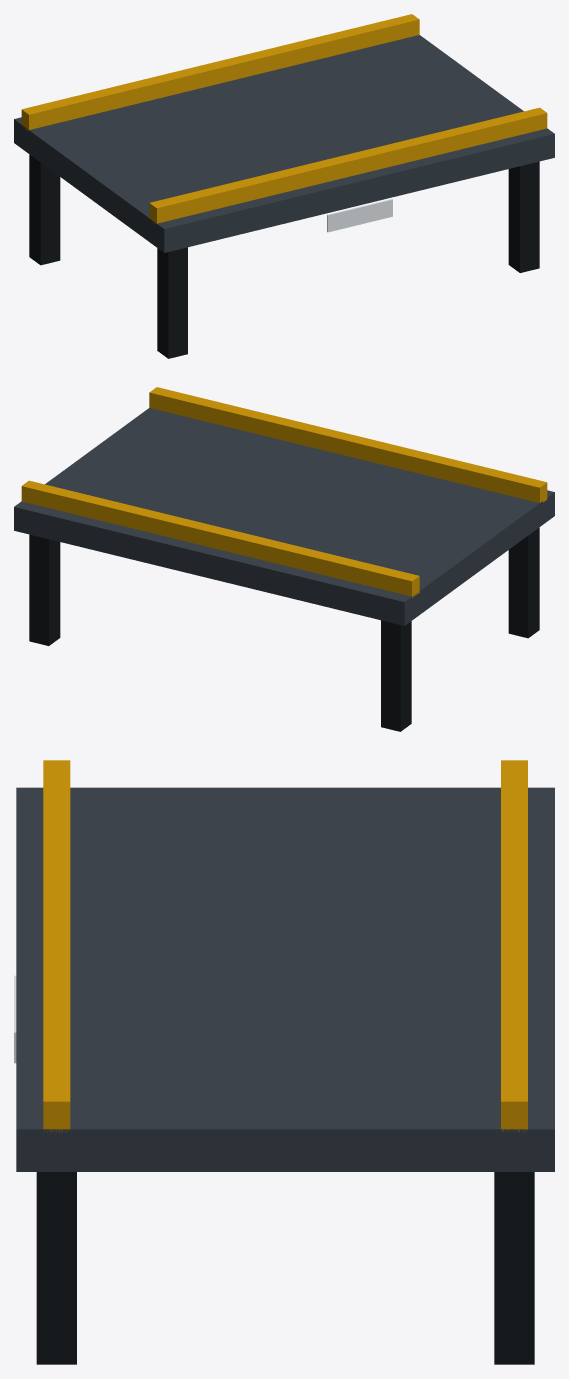
The picture shows the model from 3 angles, top to bottom: view 1: azimuth 30°, elevation 25°; view 2: azimuth 150°, elevation 25°; view 3: azimuth 270°, elevation 25°; orthographic projection. The views are drawn at different scales.
Parts seen in each view (by area): view 1: deck, rail:-0.34, rail:0.34, leg:1:1, leg:-1:1, leg:-1:-1, label:buffer; view 2: deck, rail:-0.34, rail:0.34, leg:1:-1, leg:-1:-1, leg:-1:1; view 3: deck, rail:0.34, rail:-0.34, leg:1:-1, leg:1:1.
Part boxes in pixels (x1,y1,x2,y2): deck: [14, 35, 554, 252]; rail:-0.34: [21, 14, 419, 131]; rail:0.34: [149, 107, 547, 224]; leg:1:1: [508, 161, 539, 272]; leg:-1:1: [157, 247, 187, 358]; leg:-1:-1: [29, 154, 60, 265]; label:buffer: [327, 199, 392, 232]; deck: [14, 408, 554, 625]; rail:-0.34: [21, 480, 419, 597]; rail:0.34: [149, 387, 547, 502]; leg:1:-1: [29, 534, 60, 645]; leg:-1:-1: [381, 620, 411, 731]; leg:-1:1: [508, 527, 539, 638]; deck: [16, 787, 554, 1171]; rail:0.34: [43, 760, 70, 1132]; rail:-0.34: [501, 760, 527, 1131]; leg:1:-1: [494, 1172, 534, 1364]; leg:1:1: [36, 1172, 76, 1364].
Bounding box in the file's own units: 1.2 × 0.445 × 0.8035.
